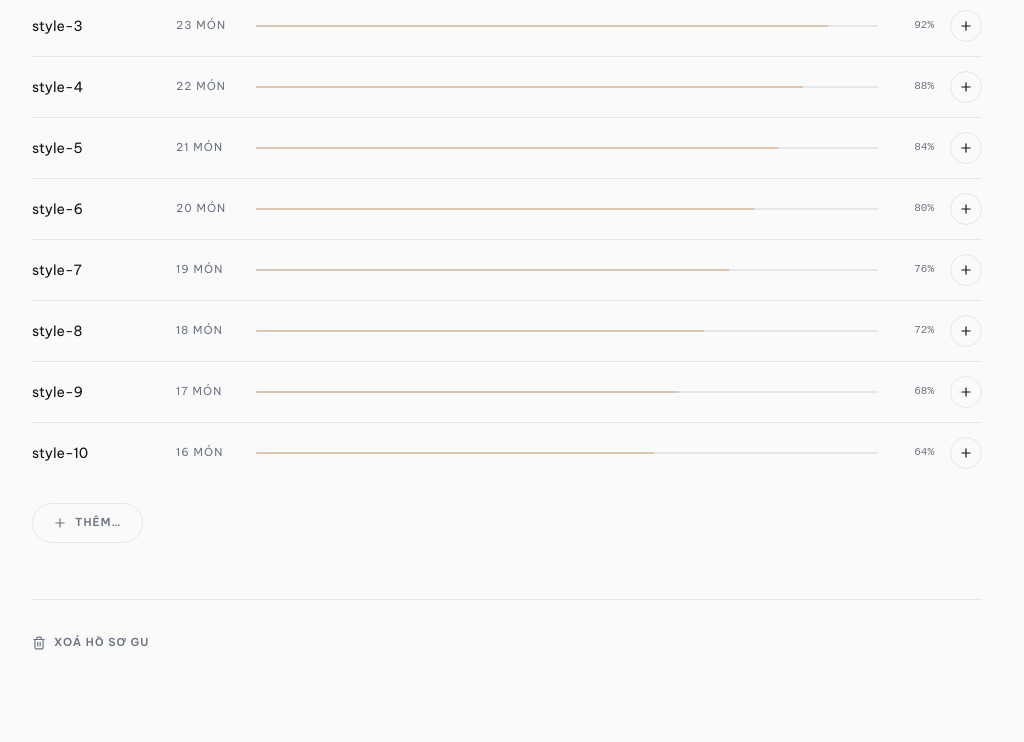
Test case: StyleProfileClient wardrobe suggestions pagination › shows 10 suggestions initially and 10 more on each "Thêm…" click
(page scrolled)
Click the button "Thêm…" at coordinates (87, 522), box [32,502,143,542]
(page scrolled)
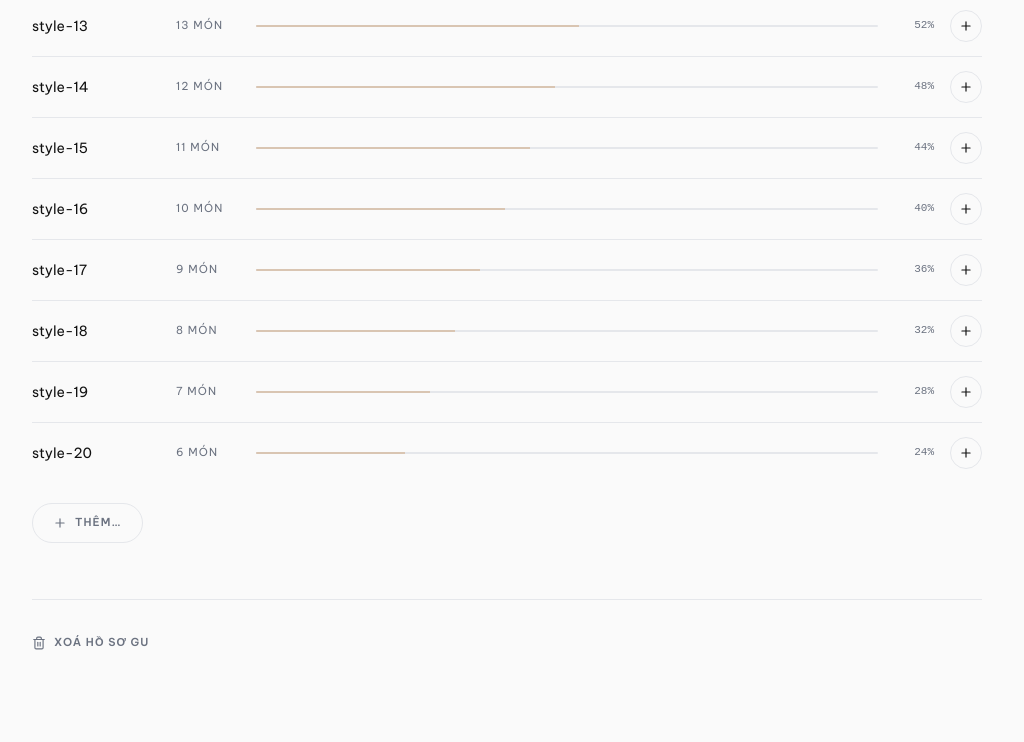
Click the button "Thêm…" at coordinates (87, 522), box [32,502,143,542]
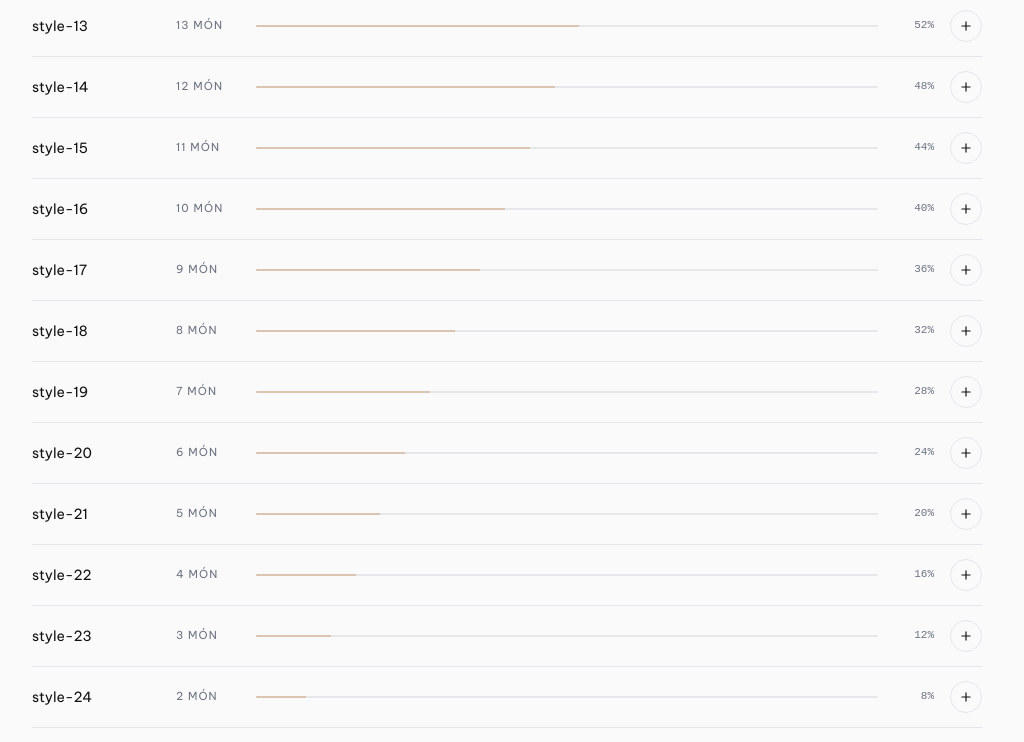
Expected: the button "Thêm…" is gone
